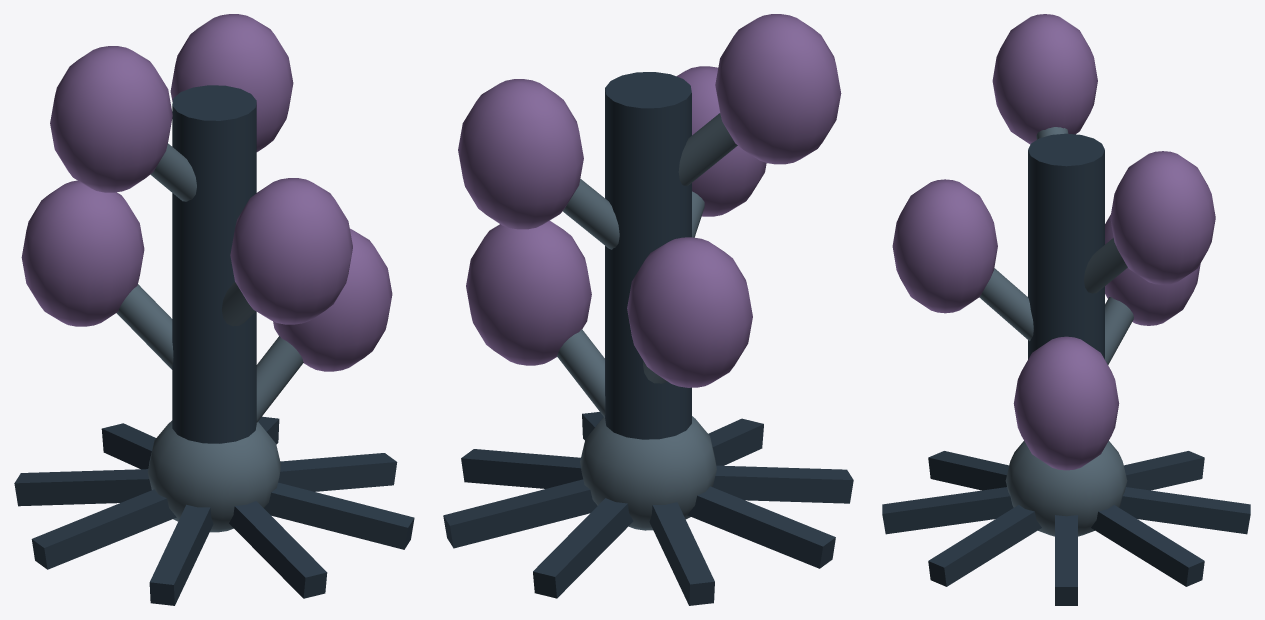
The model's file is CMU3DHiveHiveRecoveryNodeXenoConstructionNode.glb.
3 views of the same model, side by side, from view 1: azimuth 30°, elevation 25°; view 2: azimuth 150°, elevation 25°; view 3: azimuth 270°, elevation 25° (orthographic). The views are drawn at different scales.
Parts seen in each view (by area): view 1: nutrient sac (×5), anchoring root (×7), central branching trunk, construction bud, raised organ branch (×4); view 2: nutrient sac (×5), anchoring root (×7), central branching trunk, construction bud, raised organ branch (×3); view 3: nutrient sac (×5), anchoring root (×7), central branching trunk, construction bud, raised organ branch (×3).
Boxes of the visible parts, x1=… form: nutrient sac (×5): x1=21, y1=14, x2=392, y2=371; anchoring root (×7): x1=14, y1=423, x2=414, y2=605; central branching trunk: x1=172, y1=85, x2=256, y2=443; construction bud: x1=147, y1=420, x2=281, y2=532; raised organ branch (×4): x1=116, y1=143, x2=303, y2=422; nutrient sac (×5): x1=458, y1=14, x2=841, y2=387; anchoring root (×7): x1=443, y1=418, x2=853, y2=605; central branching trunk: x1=605, y1=72, x2=691, y2=439; construction bud: x1=580, y1=416, x2=716, y2=530; raised organ branch (×3): x1=557, y1=113, x2=737, y2=417; nutrient sac (×5): x1=892, y1=14, x2=1215, y2=470; anchoring root (×7): x1=882, y1=451, x2=1250, y2=605; central branching trunk: x1=1028, y1=133, x2=1104, y2=359; construction bud: x1=1005, y1=441, x2=1127, y2=536; raised organ branch (×3): x1=979, y1=238, x2=1133, y2=364.
Size of the model in its own units: 0.9085 by 1.26 by 0.9085.
